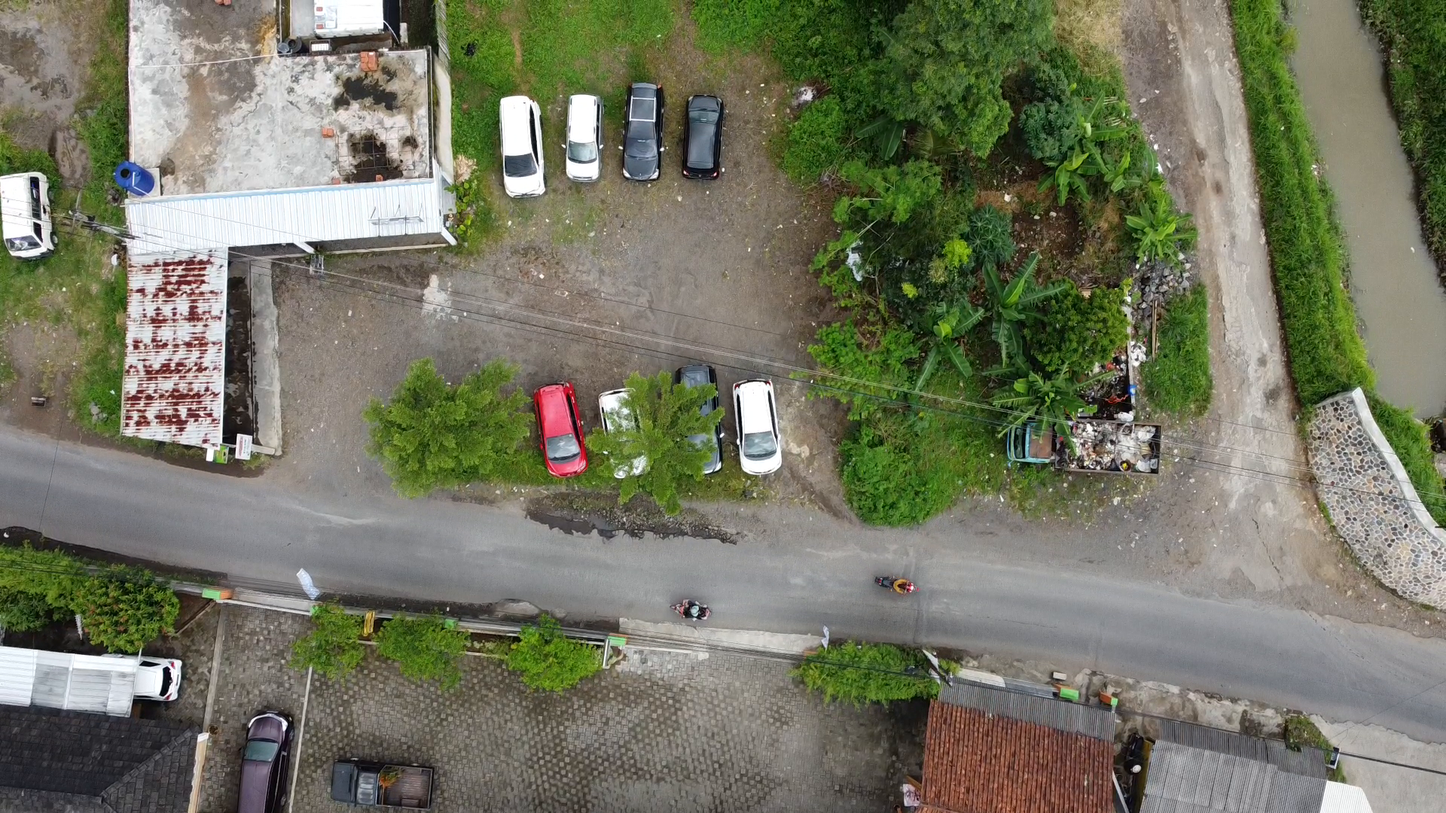mobil: (590, 380, 666, 486), (669, 357, 728, 488), (493, 88, 559, 205), (325, 742, 436, 810), (524, 375, 593, 483), (721, 377, 789, 483), (231, 703, 297, 807), (4, 165, 63, 275), (618, 73, 668, 185), (560, 85, 607, 190), (682, 85, 728, 184), (108, 650, 189, 705)
